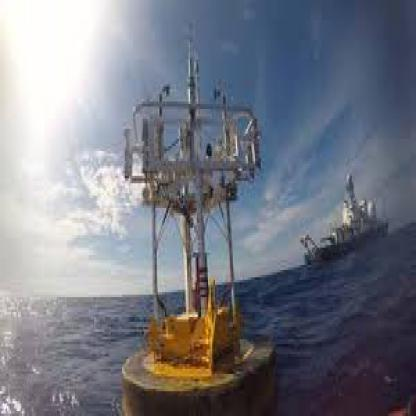buoy: (113, 8, 282, 414)
